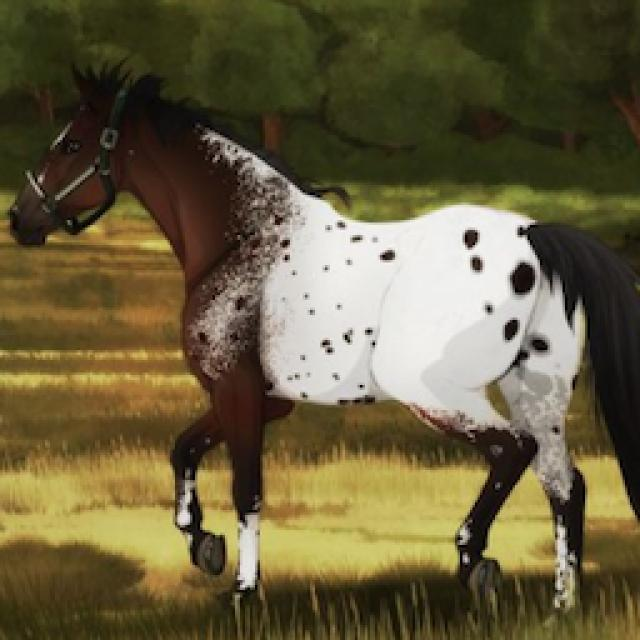Horse: (0, 52, 638, 622)
